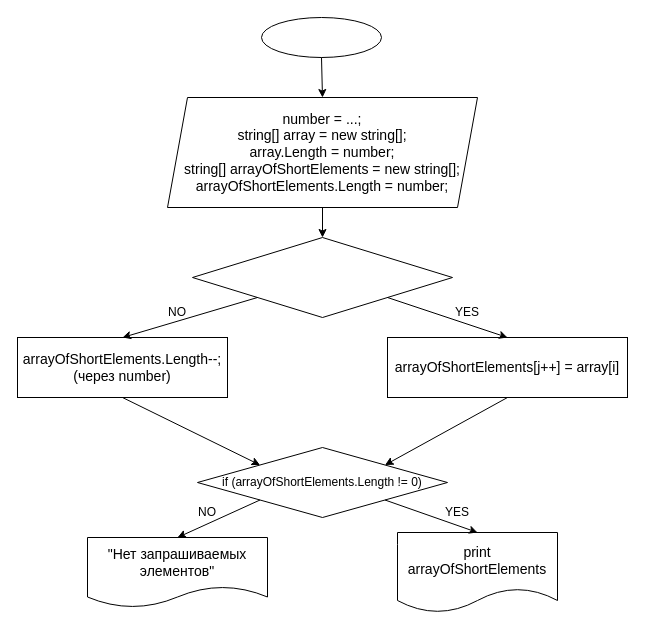
This 645x630 diagram has some shape labels left out. The centre of each missing label's shape, as x and y in pixels:
"if (array[i++] <=3)" goes at pixel 322 277.
"Start" goes at pixel 321 37.
